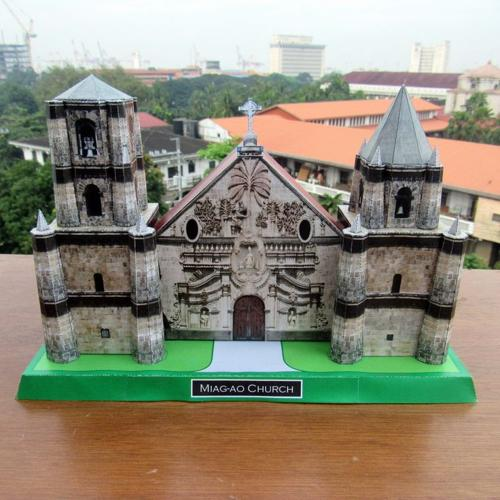Miagao Church: (19, 64, 462, 374)
